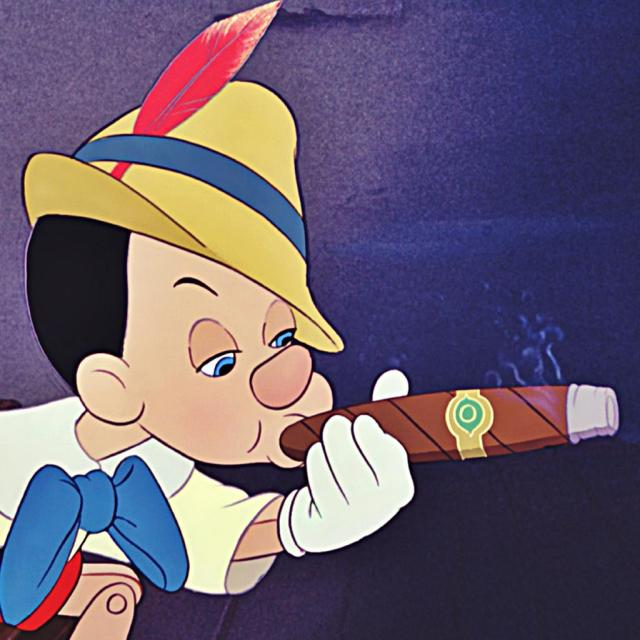smoking: (20, 140, 634, 546)
